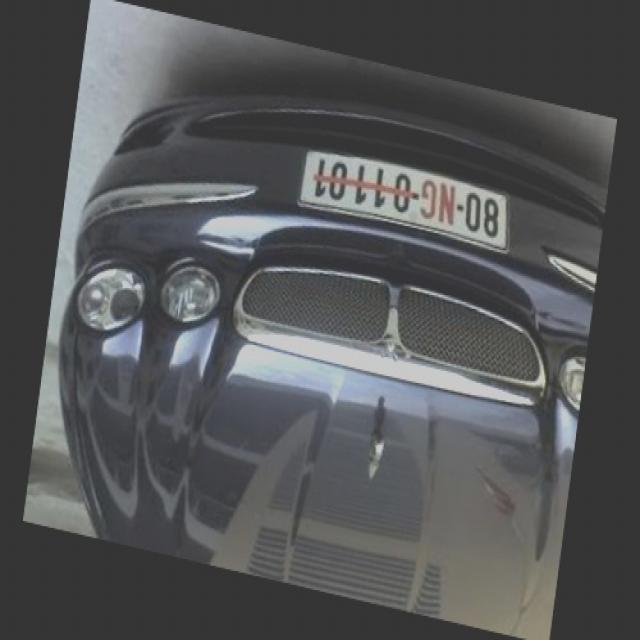bien_ngoai_giao: (297, 146, 508, 267)
